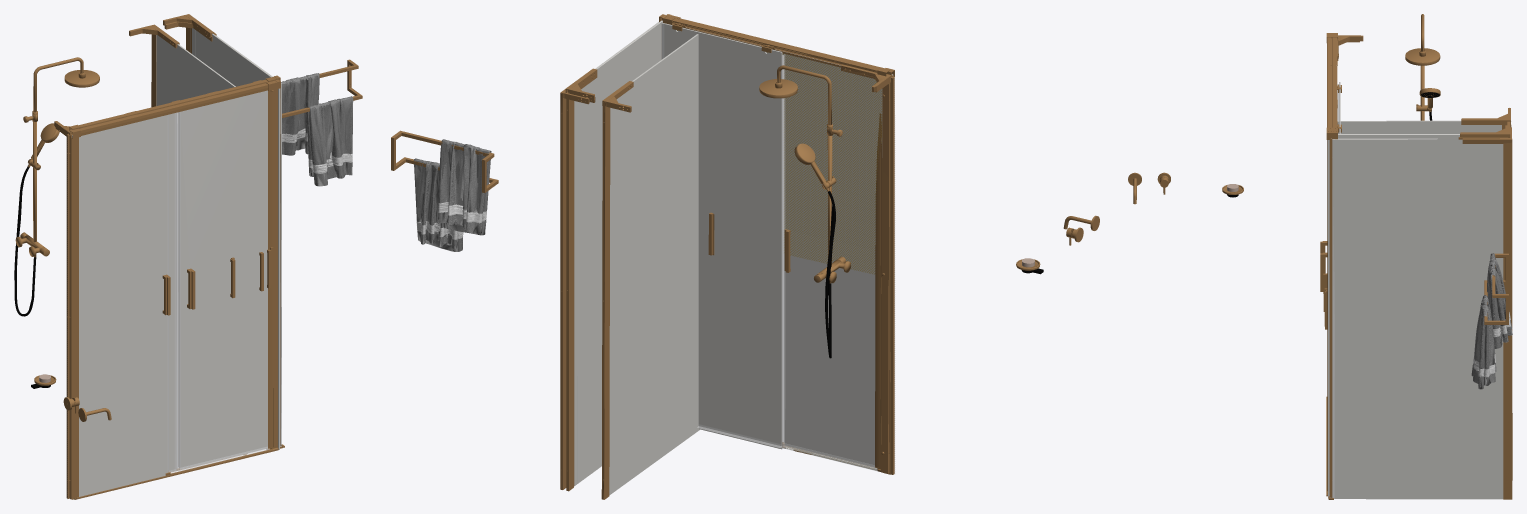
File: PAROIS_compressed.glb
The picture shows the model from 3 angles, left to right: view 1: azimuth 30°, elevation 25°; view 2: azimuth 150°, elevation 25°; view 3: azimuth 270°, elevation 25°; orthographic projection. The views are drawn at different scales.
Visible parts, largest first — view 1: PLCLS 1200x2000 + PLTWU 900x2000, RightDoor.001, PLPIV 1000x2000 + PLTWU 900x2000.002, leftDoor.001, towel.002, Shower system, frame.001, towel.001, frame.003, PLPIF 1200X2000, PLPIF 1200X2000 + PLTWU 900x2000, PLCLS 1200x2000 (+4 smaller); view 2: PLPIV 1000x2000 + PLTWU 900x2000.002, MovingDoor, Moving door.001, PLCLS 1200x2000 + PLTWU 900x2000, PLTWU 1000x2000, Serigraphie Chevrons carrée, towel.001, Shower system, PLPIF 1200X2000 + PLTWU 900x2000, PLCLS 1200x2000, PLPIV 1000x2000.001, towel.002 (+2 smaller); view 3: PLPIF 1200X2000 + PLTWU 900x2000, PLPIV 1000x2000 + PLTWU 900x2000.002, PLCLS 1200x2000 + PLTWU 900x2000, towel.002, frame.003, towel.001, Shower system, PLPIF 1200X2000, PLCLS 1200x2000, Towel rack, RightDoor.001.
Part boxes in pixels (<box>): PLCLS 1200x2000 + PLTWU 900x2000: <box>69,14,280,499</box>; RightDoor.001: <box>178,90,273,471</box>; PLPIV 1000x2000 + PLTWU 900x2000.002: <box>70,24,246,480</box>; leftDoor.001: <box>165,112,178,473</box>; towel.002: <box>307,96,353,186</box>; Shower system: <box>14,57,99,316</box>; frame.001: <box>76,89,278,499</box>; towel.001: <box>281,73,319,155</box>; frame.003: <box>69,21,280,499</box>; PLPIF 1200X2000: <box>55,125,271,498</box>; PLPIF 1200X2000 + PLTWU 900x2000: <box>70,33,284,473</box>; PLCLS 1200x2000: <box>69,75,280,468</box>; PLPIV 1000x2000 + PLTWU 900x2000.002: <box>601,34,893,499</box>; MovingDoor: <box>661,22,782,449</box>; Moving door.001: <box>708,113,881,471</box>; PLCLS 1200x2000 + PLTWU 900x2000: <box>565,14,894,491</box>; PLTWU 1000x2000: <box>676,27,890,473</box>; Serigraphie Chevrons carrée: <box>677,30,881,470</box>; towel.001: <box>438,139,491,235</box>; Shower system: <box>759,65,850,358</box>; PLPIF 1200X2000 + PLTWU 900x2000: <box>560,22,890,489</box>; PLCLS 1200x2000: <box>659,14,889,447</box>; PLPIV 1000x2000.001: <box>825,94,889,473</box>; towel.002: <box>413,158,463,251</box>; PLPIF 1200X2000 + PLTWU 900x2000: <box>1328,41,1512,499</box>; PLPIV 1000x2000 + PLTWU 900x2000.002: <box>1337,108,1512,480</box>; PLCLS 1200x2000 + PLTWU 900x2000: <box>1326,33,1510,497</box>; towel.002: <box>1471,295,1496,389</box>; frame.003: <box>1326,125,1508,497</box>; towel.001: <box>1487,253,1512,348</box>; Shower system: <box>1405,14,1440,120</box>; PLPIF 1200X2000: <box>1331,139,1332,497</box>; PLCLS 1200x2000: <box>1331,33,1338,139</box>; Towel rack: <box>1484,253,1508,324</box>; RightDoor.001: <box>1320,140,1327,491</box>.
Size of the model in its own units: 2.63 by 2.18 by 1.94.
Materials: 12 (4 with a texture image).
